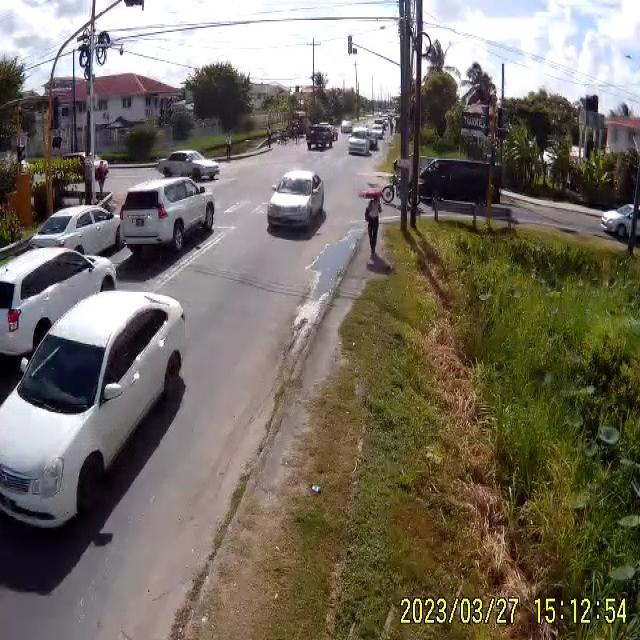car: (0, 288, 188, 526), (1, 245, 119, 374), (119, 179, 218, 249), (30, 204, 128, 256), (268, 172, 328, 240), (159, 150, 221, 184), (601, 202, 639, 244), (305, 125, 336, 148), (347, 135, 368, 154), (341, 120, 352, 134)
person: (361, 194, 384, 260), (95, 160, 108, 193)
